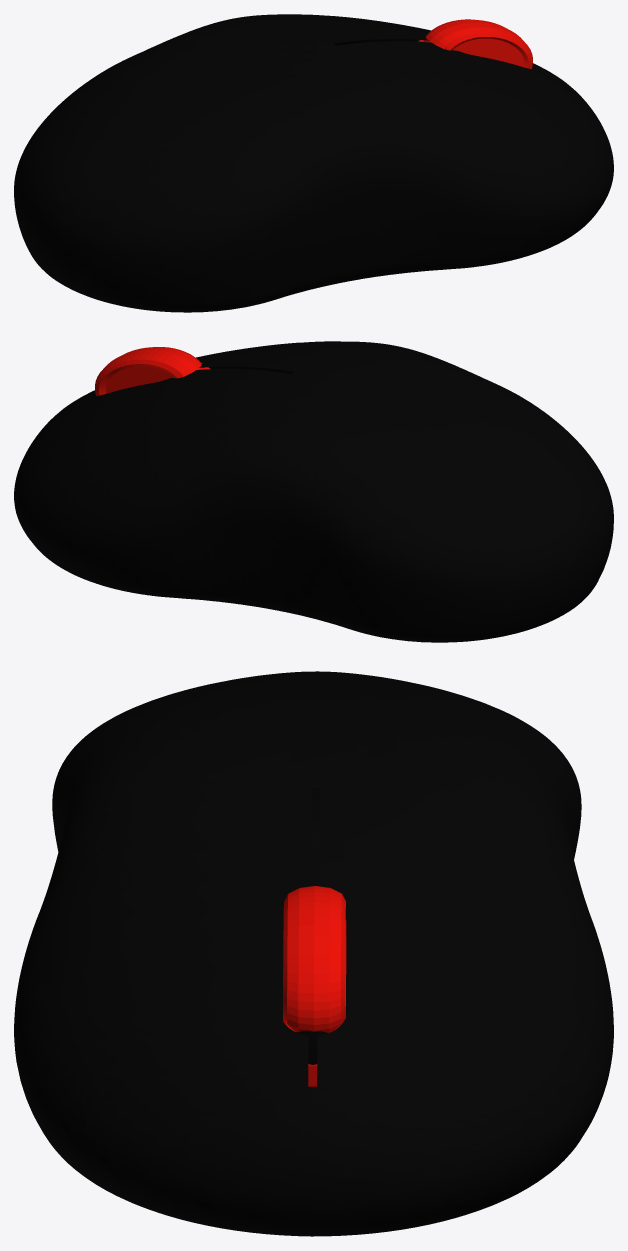
File: Mouse.glb
3 renders of one model, top to bottom at view 1: azimuth 30°, elevation 25°; view 2: azimuth 150°, elevation 25°; view 3: azimuth 270°, elevation 25°, orthographic. The views are drawn at different scales.
Parts seen in each view (by area): view 1: mouselinked, Torus, Cylinder; view 2: mouselinked, Torus, Cylinder; view 3: mouselinked, Torus.
Boxes of the visible parts, left/top/right/bottom form: mouselinked: left=14, top=14, right=613, bottom=312; Torus: left=423, top=19, right=532, bottom=68; Cylinder: left=418, top=38, right=531, bottom=68; mouselinked: left=14, top=341, right=613, bottom=642; Torus: left=95, top=347, right=204, bottom=395; Cylinder: left=105, top=362, right=210, bottom=393; mouselinked: left=14, top=671, right=613, bottom=1236; Torus: left=283, top=886, right=346, bottom=1033.
Bounding box in the file's own units: 110 × 35.01 × 68.
